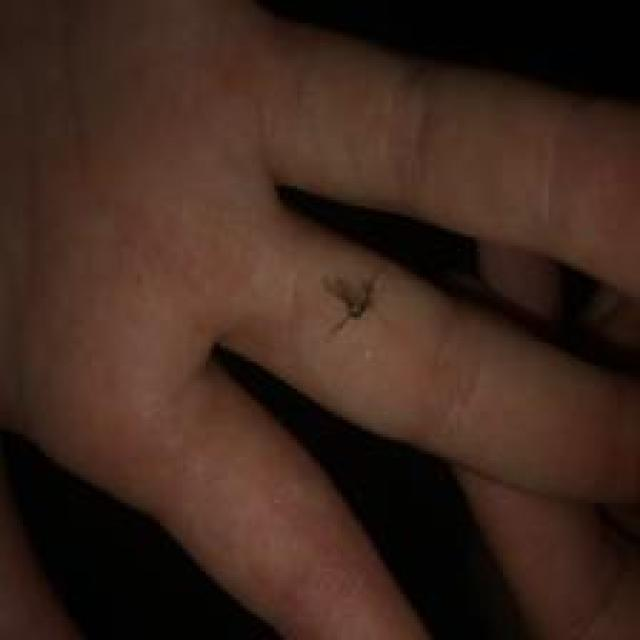Culex: (319, 267, 384, 339)
